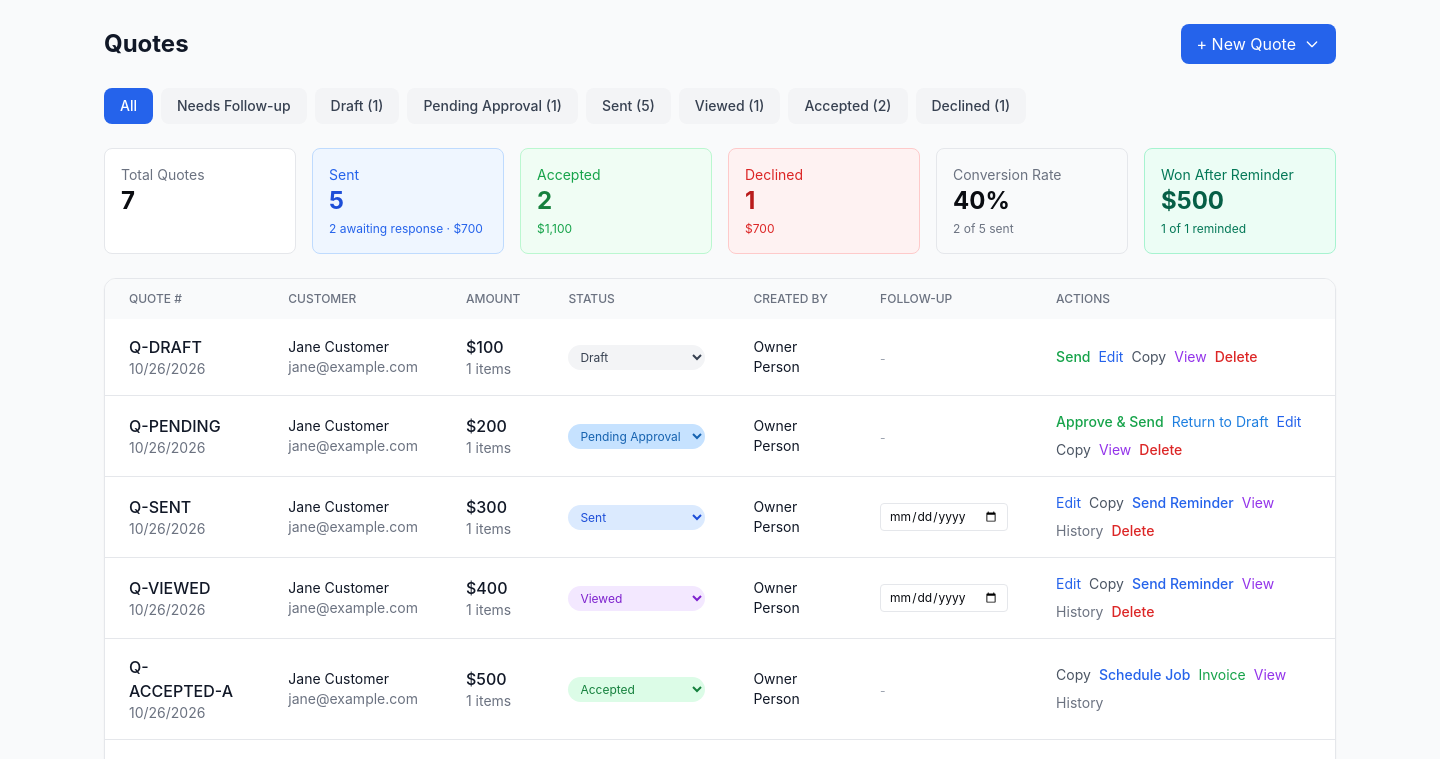
Test: Quotes dashboard — Sent tab and funnel stats › opens the customer page in preview mode so viewing does not mark the quote as viewed
Expected: the text "Q-SENT" is shown, [129,497,191,517]
Click the button "Sent (5)": (628, 106) [586,88,671,124]
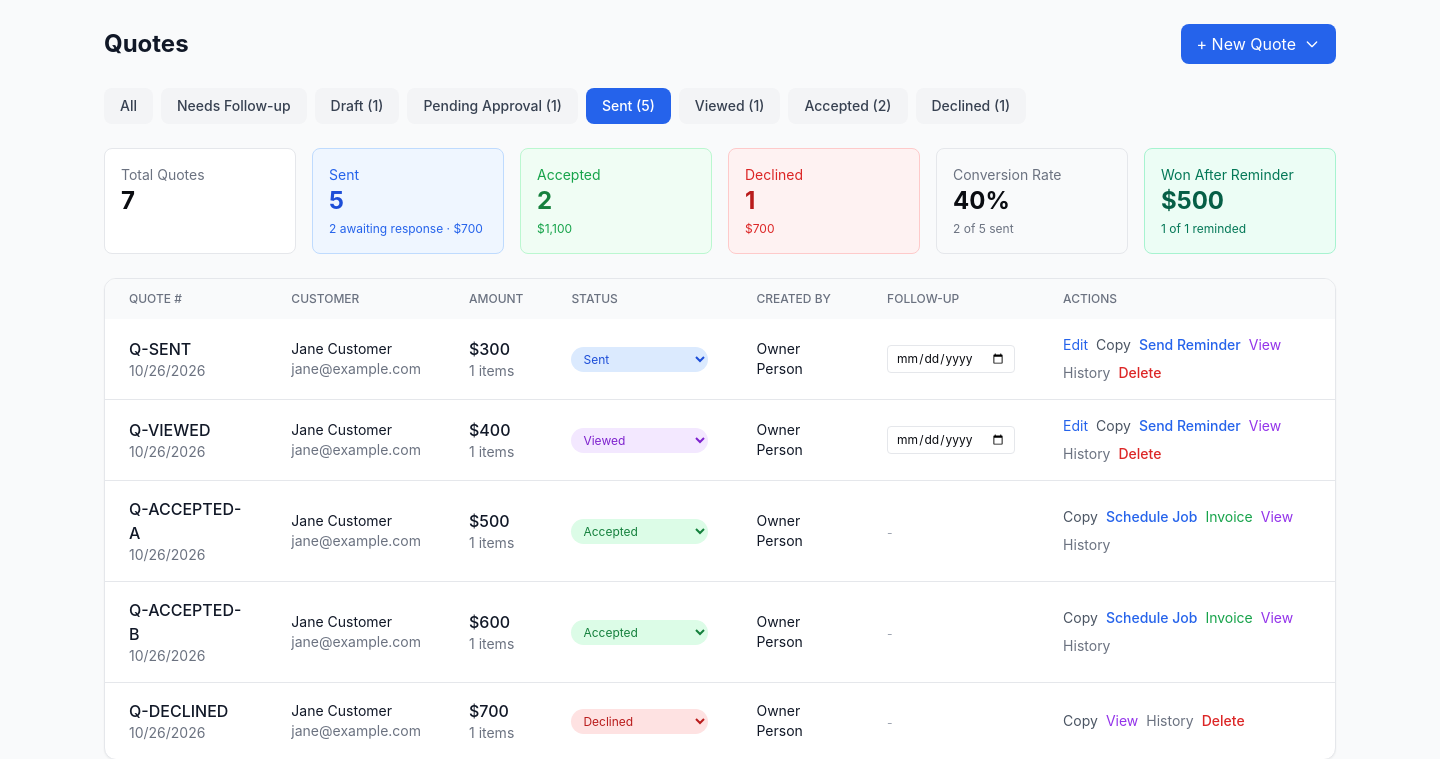
Expected: the number of links "View" is 5, [1249,335,1281,355]; [1249,416,1281,436]; [1261,507,1293,527]; [1261,608,1293,628]; [1106,711,1138,731]
